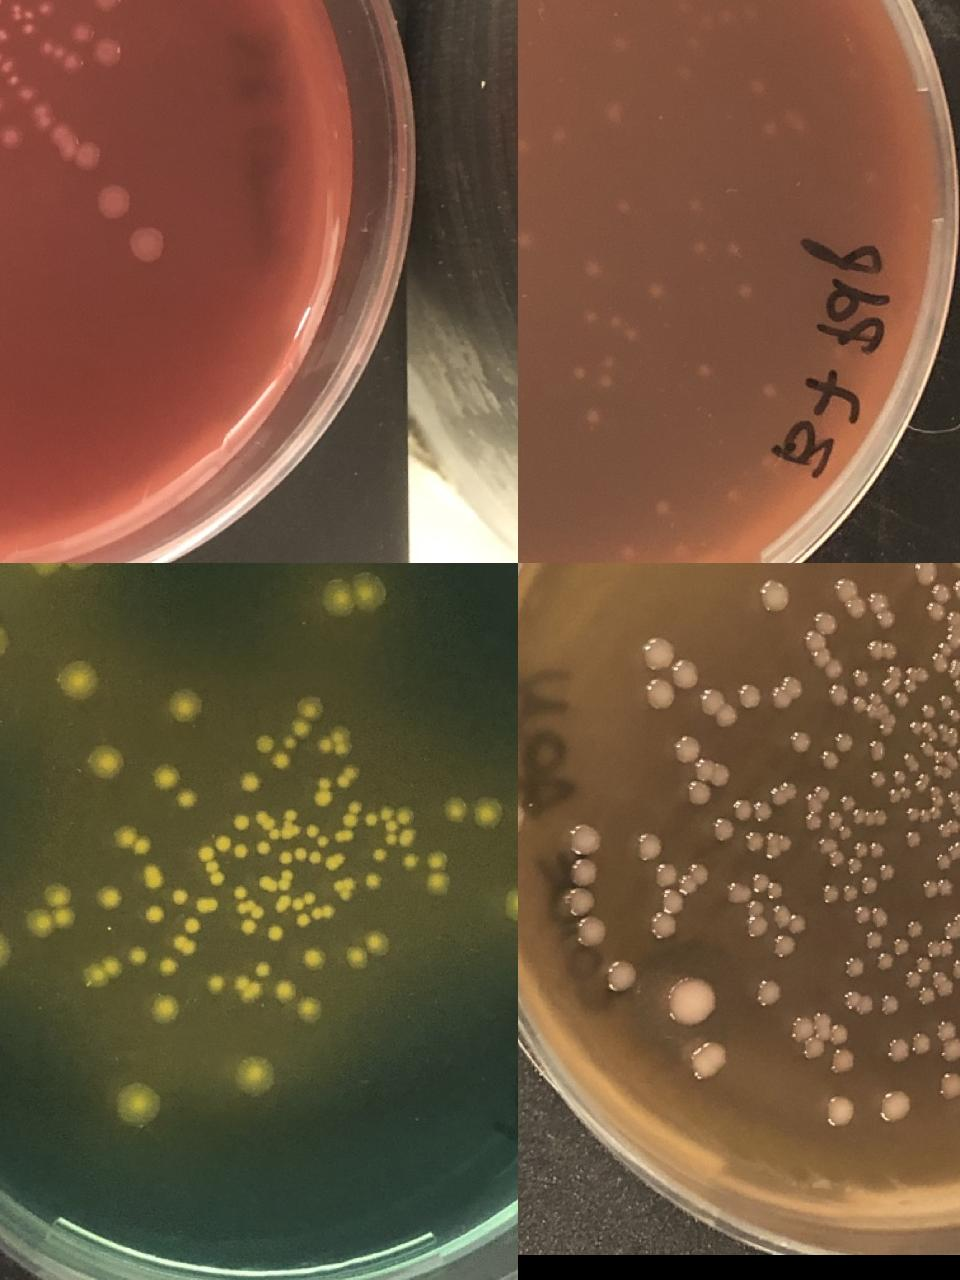pddamselae: (647, 862, 709, 941), (832, 575, 898, 631), (729, 872, 785, 935), (818, 864, 897, 903), (912, 563, 960, 622), (805, 611, 845, 678), (667, 978, 716, 1025), (564, 860, 599, 918), (787, 1017, 827, 1063), (905, 784, 945, 824), (884, 1030, 934, 1062), (699, 688, 738, 728), (889, 919, 927, 956), (743, 831, 791, 861), (689, 1042, 726, 1078), (819, 732, 854, 770), (934, 1018, 960, 1064), (769, 905, 808, 934), (729, 800, 773, 822), (633, 833, 665, 864), (671, 734, 702, 765), (752, 978, 784, 1009), (758, 583, 790, 613), (880, 1093, 912, 1123), (772, 678, 805, 708), (643, 681, 675, 711), (606, 963, 635, 993), (671, 659, 700, 689), (825, 1097, 853, 1128), (570, 826, 599, 856), (578, 918, 606, 948), (644, 639, 673, 669), (851, 905, 889, 927), (841, 990, 874, 1015), (935, 1070, 960, 1101), (919, 879, 955, 899), (771, 934, 799, 961), (850, 808, 888, 826), (686, 780, 712, 806), (853, 841, 886, 861), (710, 818, 736, 844), (735, 683, 761, 709), (831, 1046, 856, 1072), (866, 641, 895, 659), (772, 783, 796, 804), (887, 785, 914, 802), (787, 734, 809, 754), (862, 929, 884, 949), (872, 951, 894, 972), (899, 970, 922, 990), (915, 987, 937, 1007), (937, 819, 960, 839), (878, 996, 899, 1016), (828, 686, 850, 706), (842, 958, 864, 978), (863, 741, 885, 760), (946, 792, 960, 816), (949, 952, 960, 978), (518, 803, 525, 833), (949, 841, 960, 859), (815, 786, 829, 800), (905, 833, 919, 847), (936, 856, 950, 870), (937, 642, 951, 656), (828, 814, 842, 827), (830, 852, 843, 866), (838, 828, 852, 842), (847, 861, 861, 874), (852, 698, 866, 712), (853, 672, 867, 685), (867, 693, 881, 707), (869, 773, 883, 786), (887, 666, 901, 680), (893, 771, 908, 784), (894, 692, 909, 706), (840, 796, 853, 809), (949, 658, 960, 672), (953, 680, 960, 694), (956, 747, 960, 760)
pdpiscicida: (605, 309, 643, 347), (692, 6, 733, 35), (594, 352, 616, 395), (576, 302, 599, 325), (602, 99, 625, 121), (648, 498, 672, 520), (690, 236, 713, 258), (758, 381, 782, 403), (547, 122, 569, 144), (567, 359, 589, 381), (579, 405, 601, 427), (608, 36, 630, 58), (614, 541, 636, 563), (615, 198, 637, 220), (644, 281, 667, 303), (674, 63, 696, 86), (677, 37, 699, 59), (686, 197, 708, 219), (693, 361, 715, 383), (721, 238, 743, 260), (721, 487, 743, 509), (734, 281, 756, 303), (747, 73, 769, 95), (758, 113, 781, 135), (784, 115, 806, 137), (859, 169, 881, 191), (581, 258, 602, 280), (761, 447, 783, 470), (669, 544, 691, 563), (675, 0, 697, 19), (518, 231, 534, 253), (518, 137, 527, 159)
tmaritimum: (30, 104, 99, 169), (126, 226, 162, 262), (96, 185, 132, 221), (90, 34, 122, 68), (9, 3, 36, 39), (68, 20, 92, 44), (62, 51, 85, 76), (0, 126, 21, 150), (89, 0, 122, 14), (18, 85, 36, 103), (36, 36, 54, 54), (36, 0, 54, 16), (3, 74, 20, 89), (0, 59, 15, 74)
vharveyi: (319, 571, 387, 619), (24, 880, 76, 938), (341, 929, 390, 973), (365, 807, 415, 847), (56, 660, 98, 700), (235, 1058, 275, 1098), (117, 1083, 156, 1123), (86, 746, 126, 784), (81, 954, 123, 991), (255, 810, 301, 843), (233, 887, 264, 932), (332, 800, 361, 842), (21, 563, 97, 577), (257, 869, 293, 893), (277, 847, 322, 865), (95, 884, 123, 912), (150, 996, 178, 1024), (170, 694, 199, 723), (269, 976, 297, 1004), (232, 973, 262, 999), (151, 766, 179, 793), (296, 996, 324, 1024), (298, 945, 327, 973), (472, 800, 499, 828), (277, 892, 315, 911), (237, 770, 263, 796), (295, 695, 322, 722), (112, 824, 138, 850), (174, 785, 200, 811), (331, 876, 355, 902), (313, 776, 332, 808), (504, 882, 518, 923), (205, 862, 224, 888), (336, 767, 359, 788), (310, 904, 336, 921), (332, 729, 349, 755), (254, 734, 274, 754), (0, 931, 10, 971), (326, 851, 345, 870), (173, 937, 196, 953), (362, 872, 381, 890), (427, 873, 446, 891), (145, 906, 163, 924), (182, 916, 200, 934), (206, 976, 224, 994), (401, 851, 419, 869), (427, 850, 445, 868), (446, 801, 464, 819), (195, 898, 218, 912), (128, 948, 146, 966), (142, 864, 160, 881), (159, 958, 177, 976), (253, 962, 271, 979), (170, 889, 190, 905), (231, 813, 248, 830), (216, 837, 230, 851), (266, 926, 280, 940), (273, 754, 287, 768), (283, 736, 297, 750), (284, 807, 298, 821), (317, 835, 331, 849), (318, 740, 332, 754), (371, 848, 385, 862), (199, 847, 213, 860), (233, 845, 247, 858), (256, 843, 270, 856), (293, 722, 308, 735), (304, 823, 318, 837), (296, 914, 310, 927)
